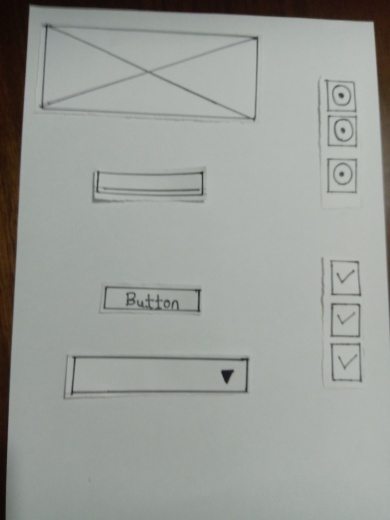button: (100, 290, 200, 311)
checkbox: (335, 345, 359, 385), (334, 307, 365, 337), (335, 263, 363, 294)
dropdown: (68, 360, 247, 397)
img: (41, 22, 255, 118)
radio: (328, 119, 359, 147), (328, 81, 356, 111), (330, 161, 354, 193)
text: (99, 174, 201, 199)
